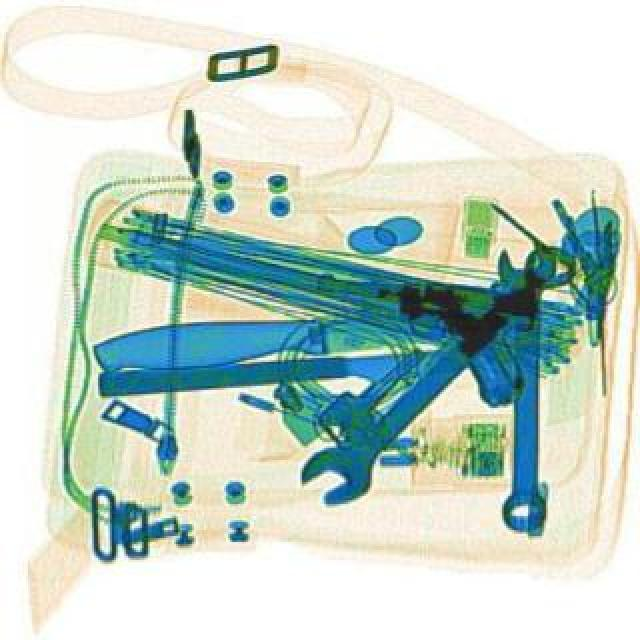gun: (312, 278, 536, 412)
knife: (98, 302, 516, 382), (102, 344, 568, 404)
scissors: (296, 234, 596, 520), (500, 242, 560, 534)
